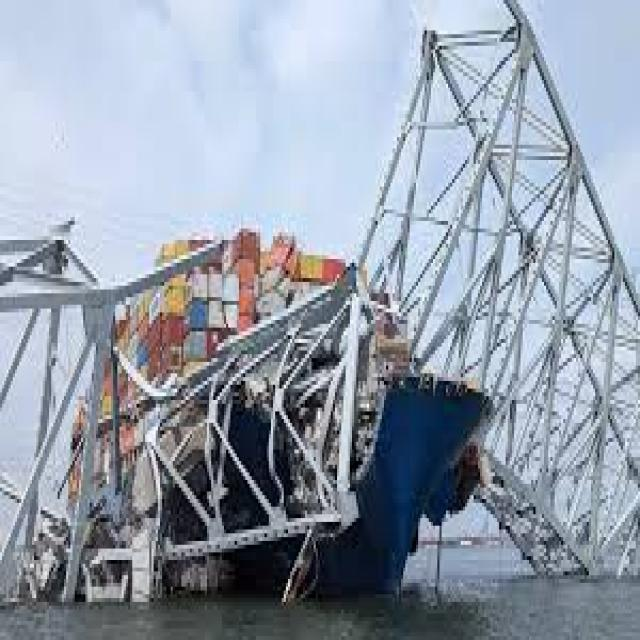bridge collapse: (30, 0, 621, 594)
